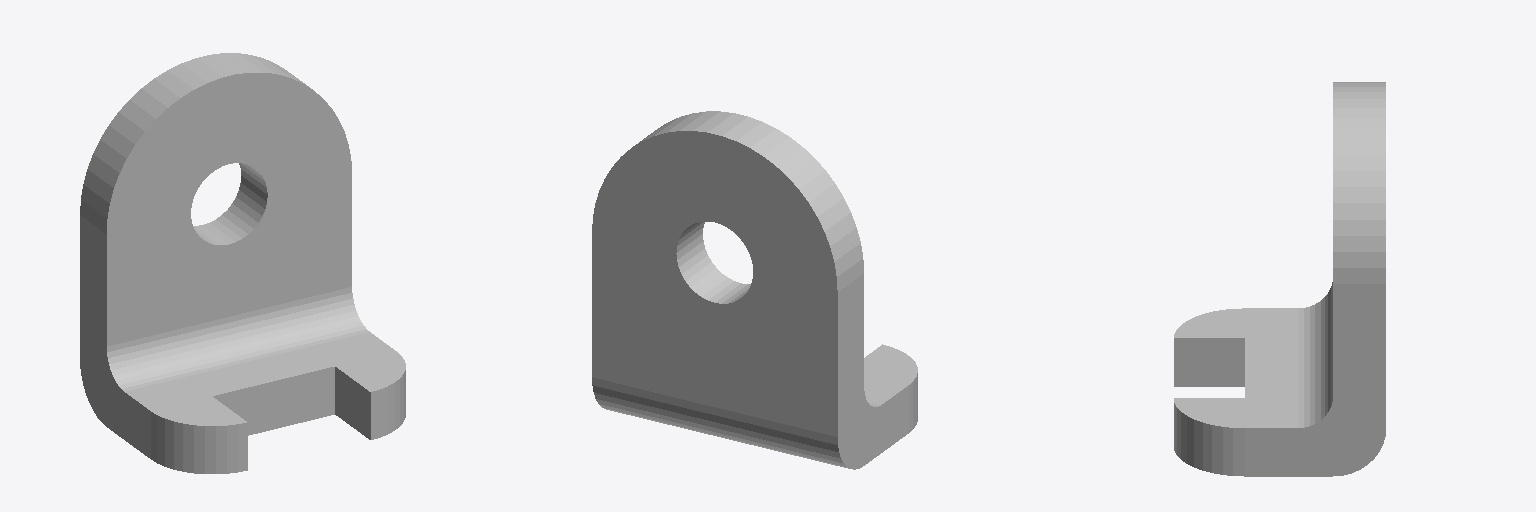
File: Technique_B_Object1.obj
The picture shows the model from 3 angles: view 1: azimuth 30°, elevation 25°; view 2: azimuth 150°, elevation 25°; view 3: azimuth 270°, elevation 25°; orthographic projection.
Visible parts, largest first — view 1: Technique_B_Object1; view 2: Technique_B_Object1; view 3: Technique_B_Object1.
Boxes of the visible parts, x1,y1,x2,y2 form: Technique_B_Object1: [80, 53, 405, 473]; Technique_B_Object1: [592, 111, 917, 469]; Technique_B_Object1: [1174, 82, 1385, 476].
Size of the model in its own units: 0.8 by 0.9993 by 0.6.